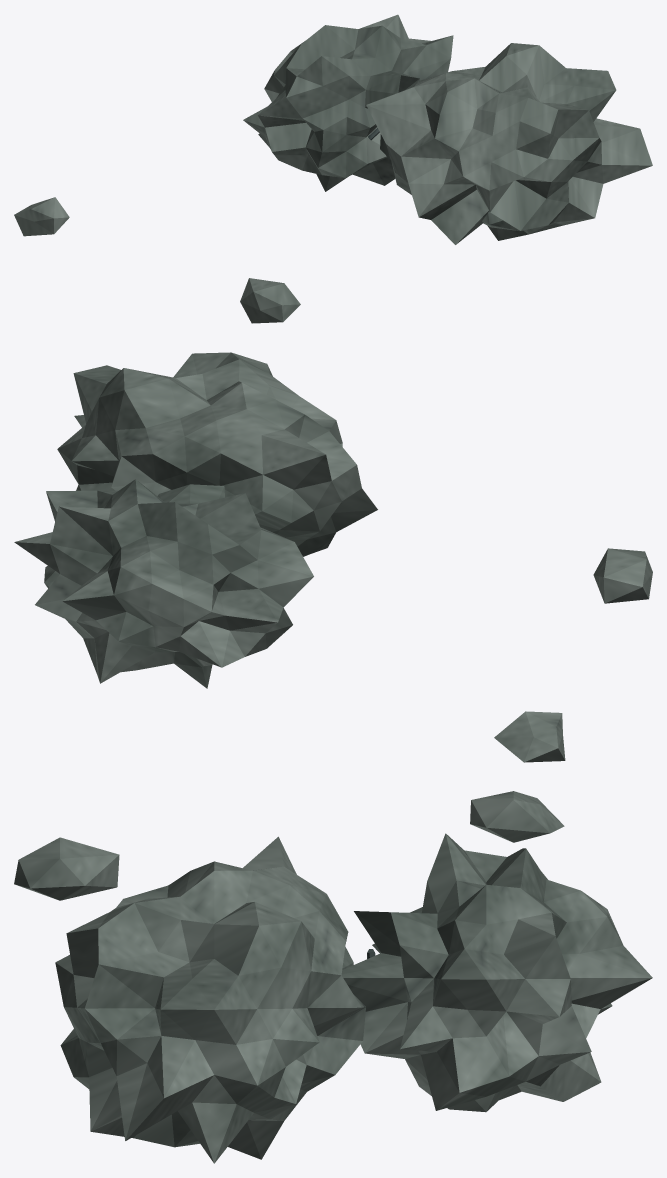
Rendered from 0024_boulder_24.glb.
3 views of the same model, one above another, from view 1: azimuth 30°, elevation 25°; view 2: azimuth 150°, elevation 25°; view 3: azimuth 270°, elevation 25° (orthographic). The views are drawn at different scales.
Parts seen in each view (by area): view 1: stone; view 2: stone; view 3: stone.
Part boxes in pixels (<box>): stone: <box>14,14,652,323</box>; stone: <box>14,352,652,762</box>; stone: <box>14,791,652,1163</box>.
Size of the model in its own units: 2.95 by 0.9325 by 2.1.
2 materials, 2 textured.
